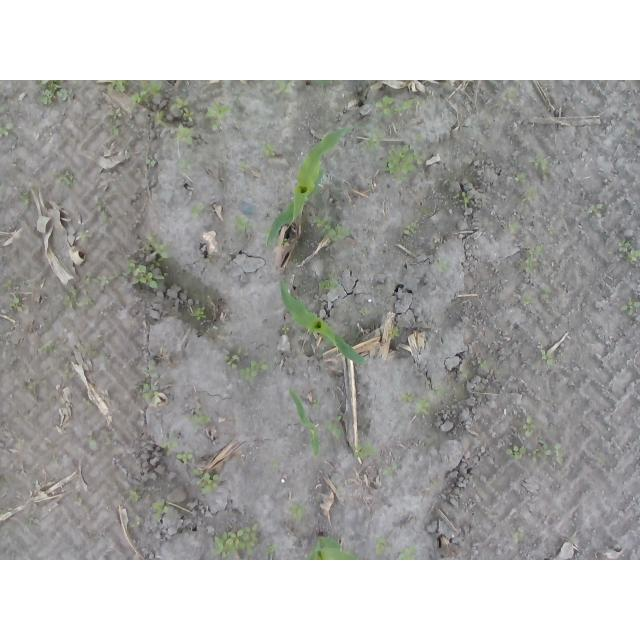Maize: (266, 125, 372, 248), (278, 276, 366, 366), (290, 387, 321, 458), (304, 534, 358, 560)
Weeds: (212, 523, 258, 557), (383, 143, 424, 181), (124, 259, 165, 289), (134, 366, 160, 407), (313, 216, 352, 243), (130, 80, 163, 106), (36, 80, 69, 106), (531, 440, 565, 465), (375, 96, 414, 117), (139, 232, 169, 259), (206, 101, 231, 131), (64, 286, 93, 311), (360, 127, 386, 153), (240, 360, 269, 383), (170, 95, 194, 121), (528, 155, 549, 182), (525, 245, 543, 275), (187, 408, 211, 429), (85, 272, 120, 286), (198, 471, 218, 494), (353, 442, 379, 459), (223, 348, 241, 371), (53, 170, 76, 187), (621, 296, 640, 316), (161, 436, 179, 456), (93, 196, 107, 221), (289, 503, 308, 521), (326, 416, 342, 437), (375, 537, 393, 555), (176, 125, 193, 144), (152, 499, 168, 518), (233, 214, 252, 230), (319, 274, 338, 290), (414, 397, 430, 415), (505, 446, 527, 459), (38, 340, 58, 354), (523, 417, 536, 438), (10, 296, 27, 312), (399, 546, 418, 560), (107, 80, 127, 93), (276, 80, 294, 94), (459, 192, 474, 208), (588, 204, 604, 219), (522, 188, 539, 202), (178, 451, 195, 465), (260, 143, 276, 157), (626, 248, 640, 264), (80, 345, 100, 356), (436, 259, 451, 273), (179, 157, 193, 172), (191, 307, 206, 321), (541, 349, 553, 366), (154, 110, 166, 127), (86, 430, 97, 448), (403, 221, 417, 235), (382, 464, 398, 476), (1, 122, 12, 139), (106, 121, 118, 136), (108, 108, 123, 120), (429, 386, 445, 397), (618, 239, 631, 252), (521, 295, 536, 306), (507, 88, 517, 104), (514, 526, 524, 542), (401, 392, 413, 405), (190, 203, 202, 216), (514, 173, 528, 184), (275, 237, 290, 247), (128, 490, 140, 502), (229, 414, 241, 426), (541, 286, 552, 299), (389, 326, 400, 339), (62, 361, 70, 378), (20, 192, 30, 205), (509, 221, 520, 232), (77, 231, 87, 242), (266, 546, 278, 555), (459, 365, 468, 377), (312, 396, 321, 408), (413, 134, 426, 142), (261, 225, 271, 235), (477, 360, 488, 369), (416, 98, 427, 107), (269, 459, 278, 470), (132, 516, 141, 527), (146, 159, 159, 166), (238, 161, 247, 171), (359, 309, 371, 316), (28, 382, 37, 391), (17, 438, 26, 447), (193, 469, 204, 476), (3, 278, 12, 286), (26, 278, 35, 286), (282, 325, 290, 334), (546, 226, 554, 235), (74, 498, 82, 506), (206, 255, 212, 262)
